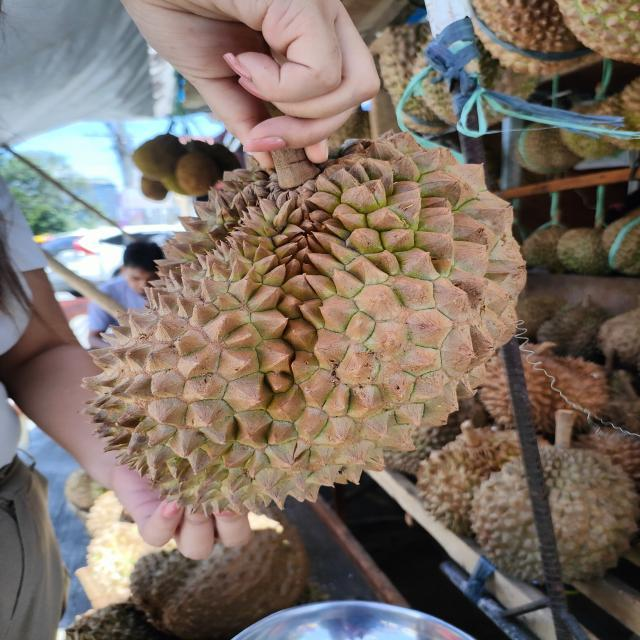mature: (81, 147, 529, 523)
